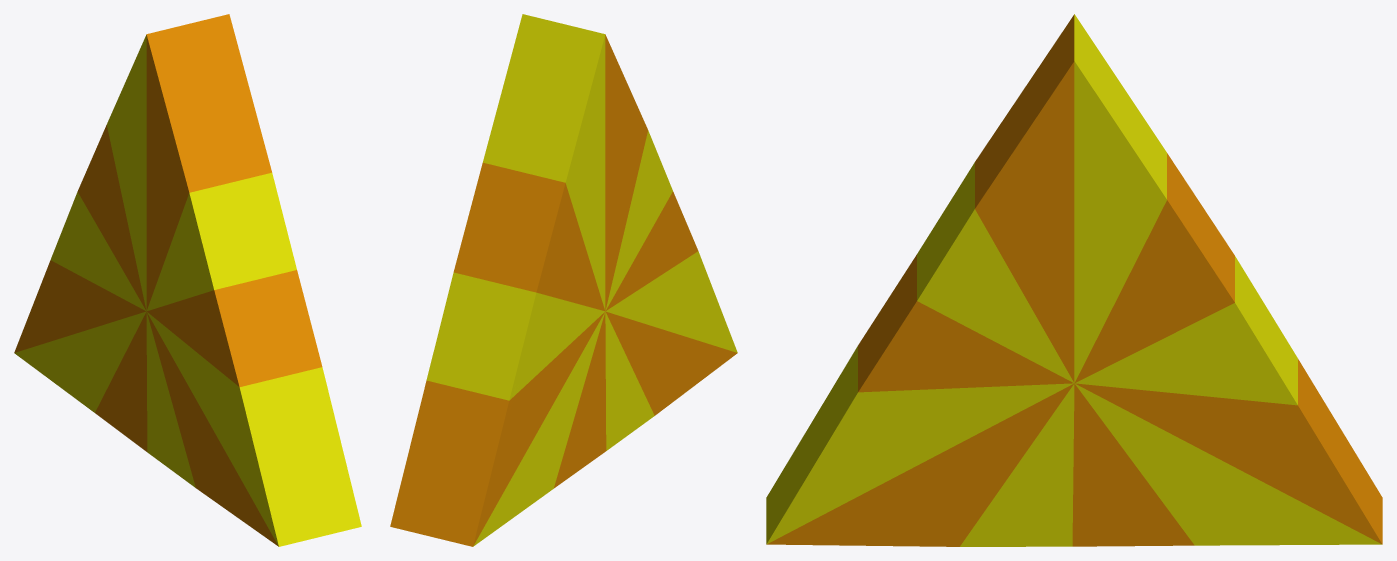
File: trianglestripes.fbx
3 renders of one model, left to right at view 1: azimuth 30°, elevation 25°; view 2: azimuth 150°, elevation 25°; view 3: azimuth 270°, elevation 25°, orthographic. The views are drawn at different scales.
Visible parts, largest first — view 1: pCylinder4; view 2: pCylinder4; view 3: pCylinder4.
Boxes of the visible parts, x1,y1,x2,y2 form: pCylinder4: (14,14,361,546); pCylinder4: (390,14,737,546); pCylinder4: (766,14,1382,546).
Bounding box in the file's own units: 0.3502 × 1.69 × 1.94.
